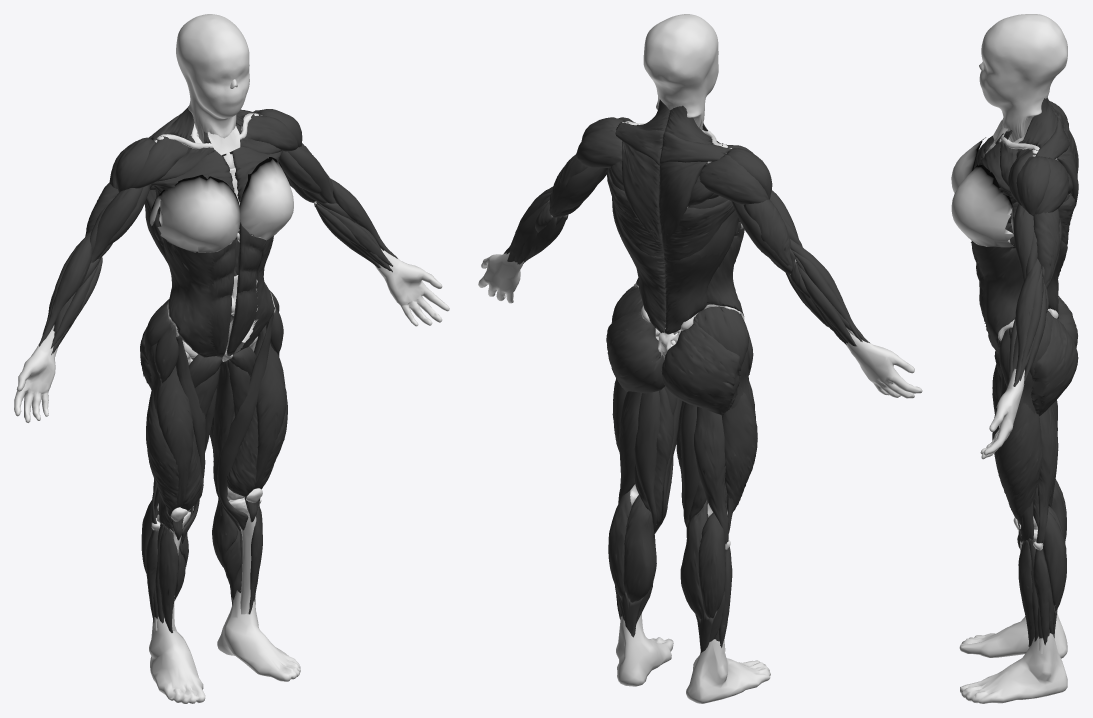
The model's file is corpo-f-5.glb.
3 renders of one model, left to right at view 1: azimuth 30°, elevation 25°; view 2: azimuth 150°, elevation 25°; view 3: azimuth 270°, elevation 25°, orthographic.
Parts seen in each view (by area): view 1: pele, mama, deco, cabeca, quad_reto_femoral, obliquos, adutores, antebraco_flexores, quad_vasto_lateral, ombro_frontal, antebraco_braquiorradial, quad_vasto_medial (+14 smaller); view 2: pele, gluteo_maximo, panturrilha_gastro, cabeca, isquio_semitendineo, dorsal_inferior, trapezio_inferior, isquio_biceps_femoral, dorsal_superior, antebraco_extensores, ombro_posterior, quad_vasto_lateral (+12 smaller); view 3: cabeca, pele, mama, deco, quad_vasto_lateral, obliquos, gluteo_maximo, panturrilha_gastro, isquio_biceps_femoral, ombro_lateral, triceps_lateral, antebraco_braquiorradial (+20 smaller).
Boxes of the visible parts, x1,y1,x2,y2 form: pele: [14, 250, 449, 703]; mama: [149, 157, 293, 252]; deco: [146, 131, 279, 632]; cabeca: [176, 14, 249, 143]; quad_reto_femoral: [156, 325, 286, 540]; obliquos: [163, 236, 274, 357]; adutores: [182, 342, 256, 545]; antebraco_flexores: [50, 201, 392, 354]; quad_vasto_lateral: [146, 388, 287, 517]; ombro_frontal: [131, 113, 297, 188]; antebraco_braquiorradial: [39, 178, 397, 346]; quad_vasto_medial: [176, 407, 258, 536]; pele: [478, 253, 922, 703]; gluteo_maximo: [606, 305, 740, 415]; panturrilha_gastro: [608, 490, 725, 618]; cabeca: [643, 14, 718, 130]; isquio_semitendineo: [634, 387, 706, 529]; dorsal_inferior: [618, 230, 729, 334]; trapezio_inferior: [622, 141, 707, 251]; isquio_biceps_femoral: [618, 391, 728, 544]; dorsal_superior: [607, 168, 739, 258]; antebraco_extensores: [506, 192, 862, 346]; ombro_posterior: [575, 127, 768, 204]; quad_vasto_lateral: [612, 378, 757, 511]; cabeca: [979, 14, 1067, 142]; pele: [959, 369, 1067, 703]; mama: [951, 137, 1014, 247]; deco: [995, 130, 1057, 646]; quad_vasto_lateral: [997, 403, 1042, 540]; obliquos: [971, 223, 1023, 353]; gluteo_maximo: [1031, 296, 1078, 416]; panturrilha_gastro: [1043, 479, 1066, 610]; isquio_biceps_femoral: [1033, 400, 1058, 544]; ombro_lateral: [1016, 100, 1050, 215]; triceps_lateral: [1033, 209, 1060, 284]; antebraco_braquiorradial: [1013, 259, 1041, 386].
Size of the model in its own units: 1.15 by 1.66 by 0.2907.
1 material, 1 textured.
